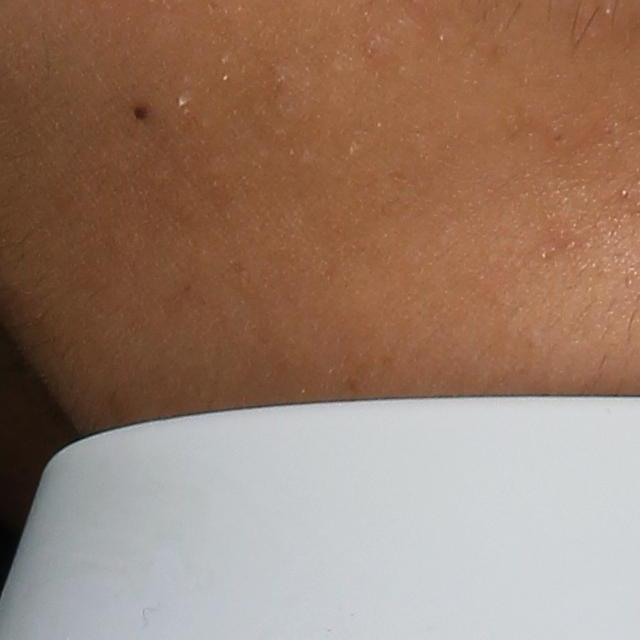nevus: (122, 97, 151, 124)
